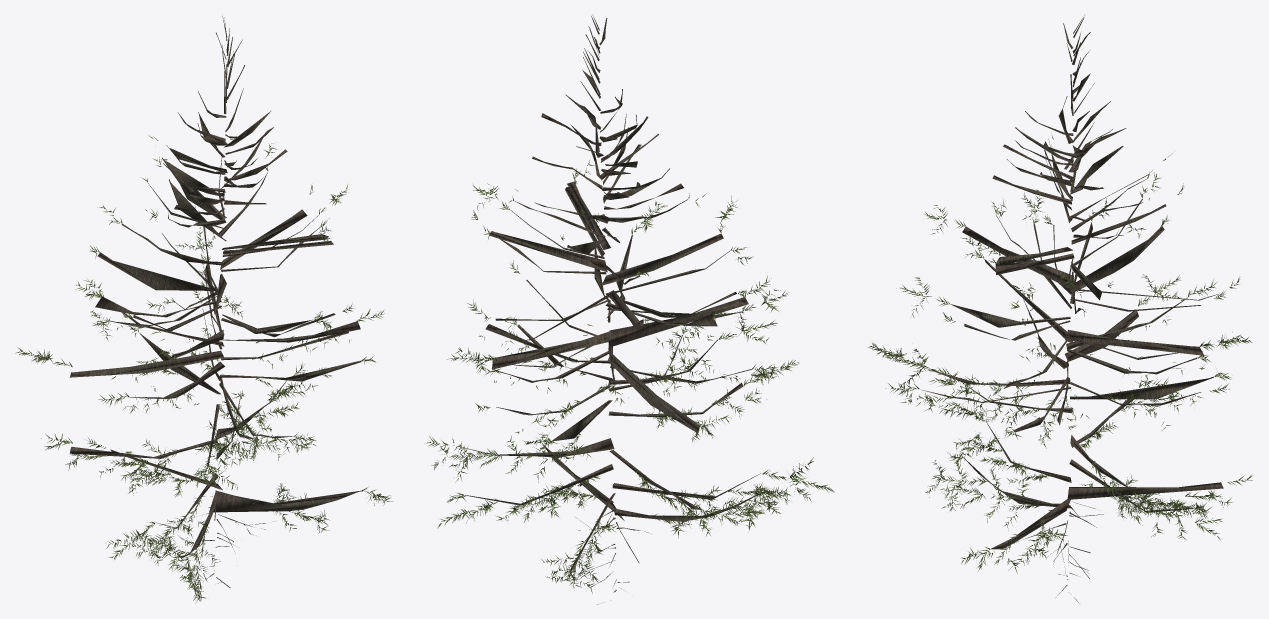
Rendered from fir_medium_a_lod1.gltf.
3 renders of one model, left to right at view 1: azimuth 30°, elevation 25°; view 2: azimuth 150°, elevation 25°; view 3: azimuth 270°, elevation 25°, orthographic. The views are drawn at different scales.
Visible parts, largest first — view 1: fir_sapling_medium_a_LOD0.001, fir_sapling_medium_a_LOD0.002; view 2: fir_sapling_medium_a_LOD0.001, fir_sapling_medium_a_LOD0.002; view 3: fir_sapling_medium_a_LOD0.001, fir_sapling_medium_a_LOD0.002.
Boxes of the visible parts, x1=… form: fir_sapling_medium_a_LOD0.001: x1=69, y1=16, x2=360, y2=557; fir_sapling_medium_a_LOD0.002: x1=15, y1=135, x2=392, y2=601; fir_sapling_medium_a_LOD0.001: x1=458, y1=14, x2=760, y2=572; fir_sapling_medium_a_LOD0.002: x1=424, y1=160, x2=834, y2=593; fir_sapling_medium_a_LOD0.001: x1=921, y1=15, x2=1223, y2=549; fir_sapling_medium_a_LOD0.002: x1=867, y1=135, x2=1252, y2=573.
Bounding box in the file's own units: 4.79 × 8.35 × 4.97.
3 materials, 3 textured.
